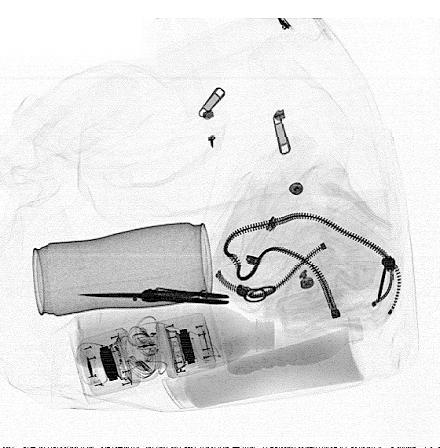Knife: (75, 286, 231, 307)
